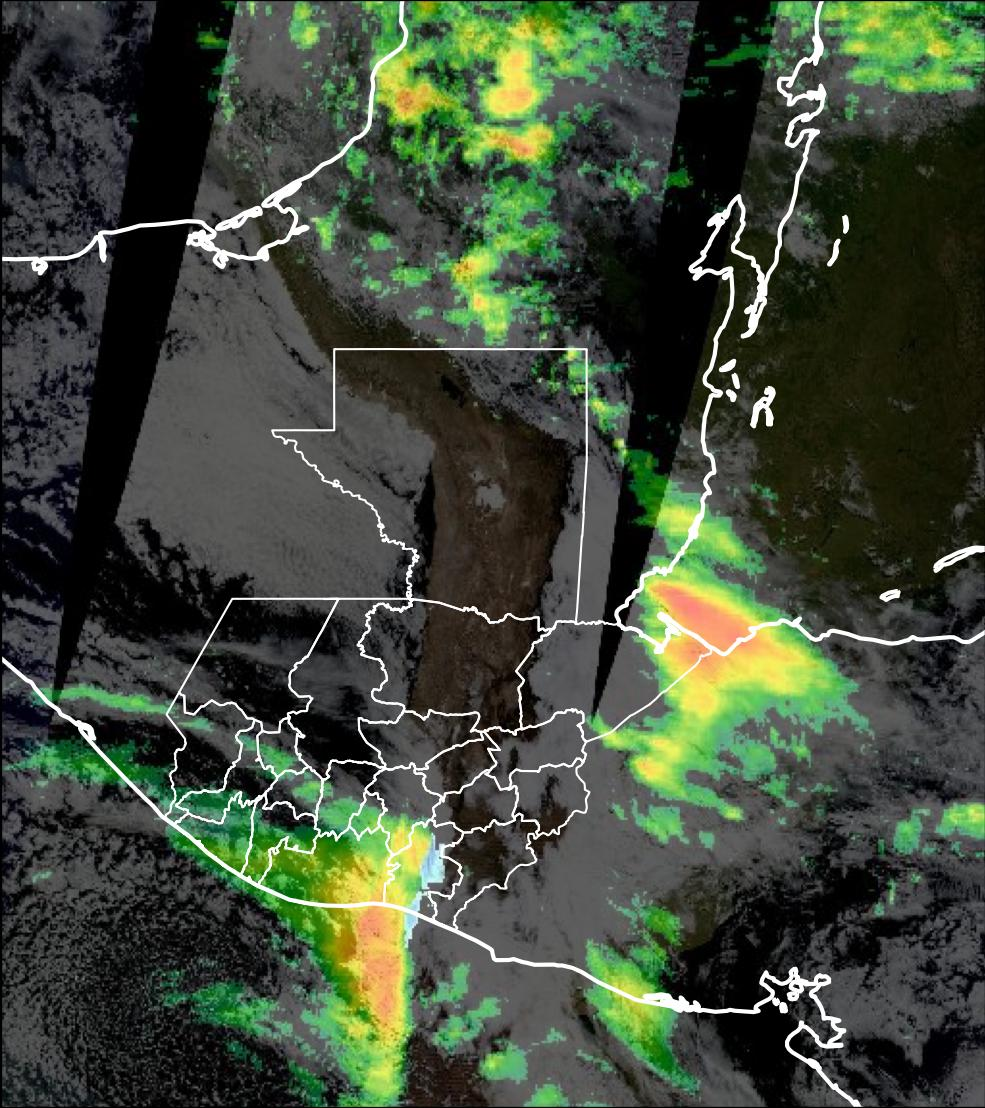precipitacion: (649, 576, 815, 704), (339, 893, 415, 1042)
